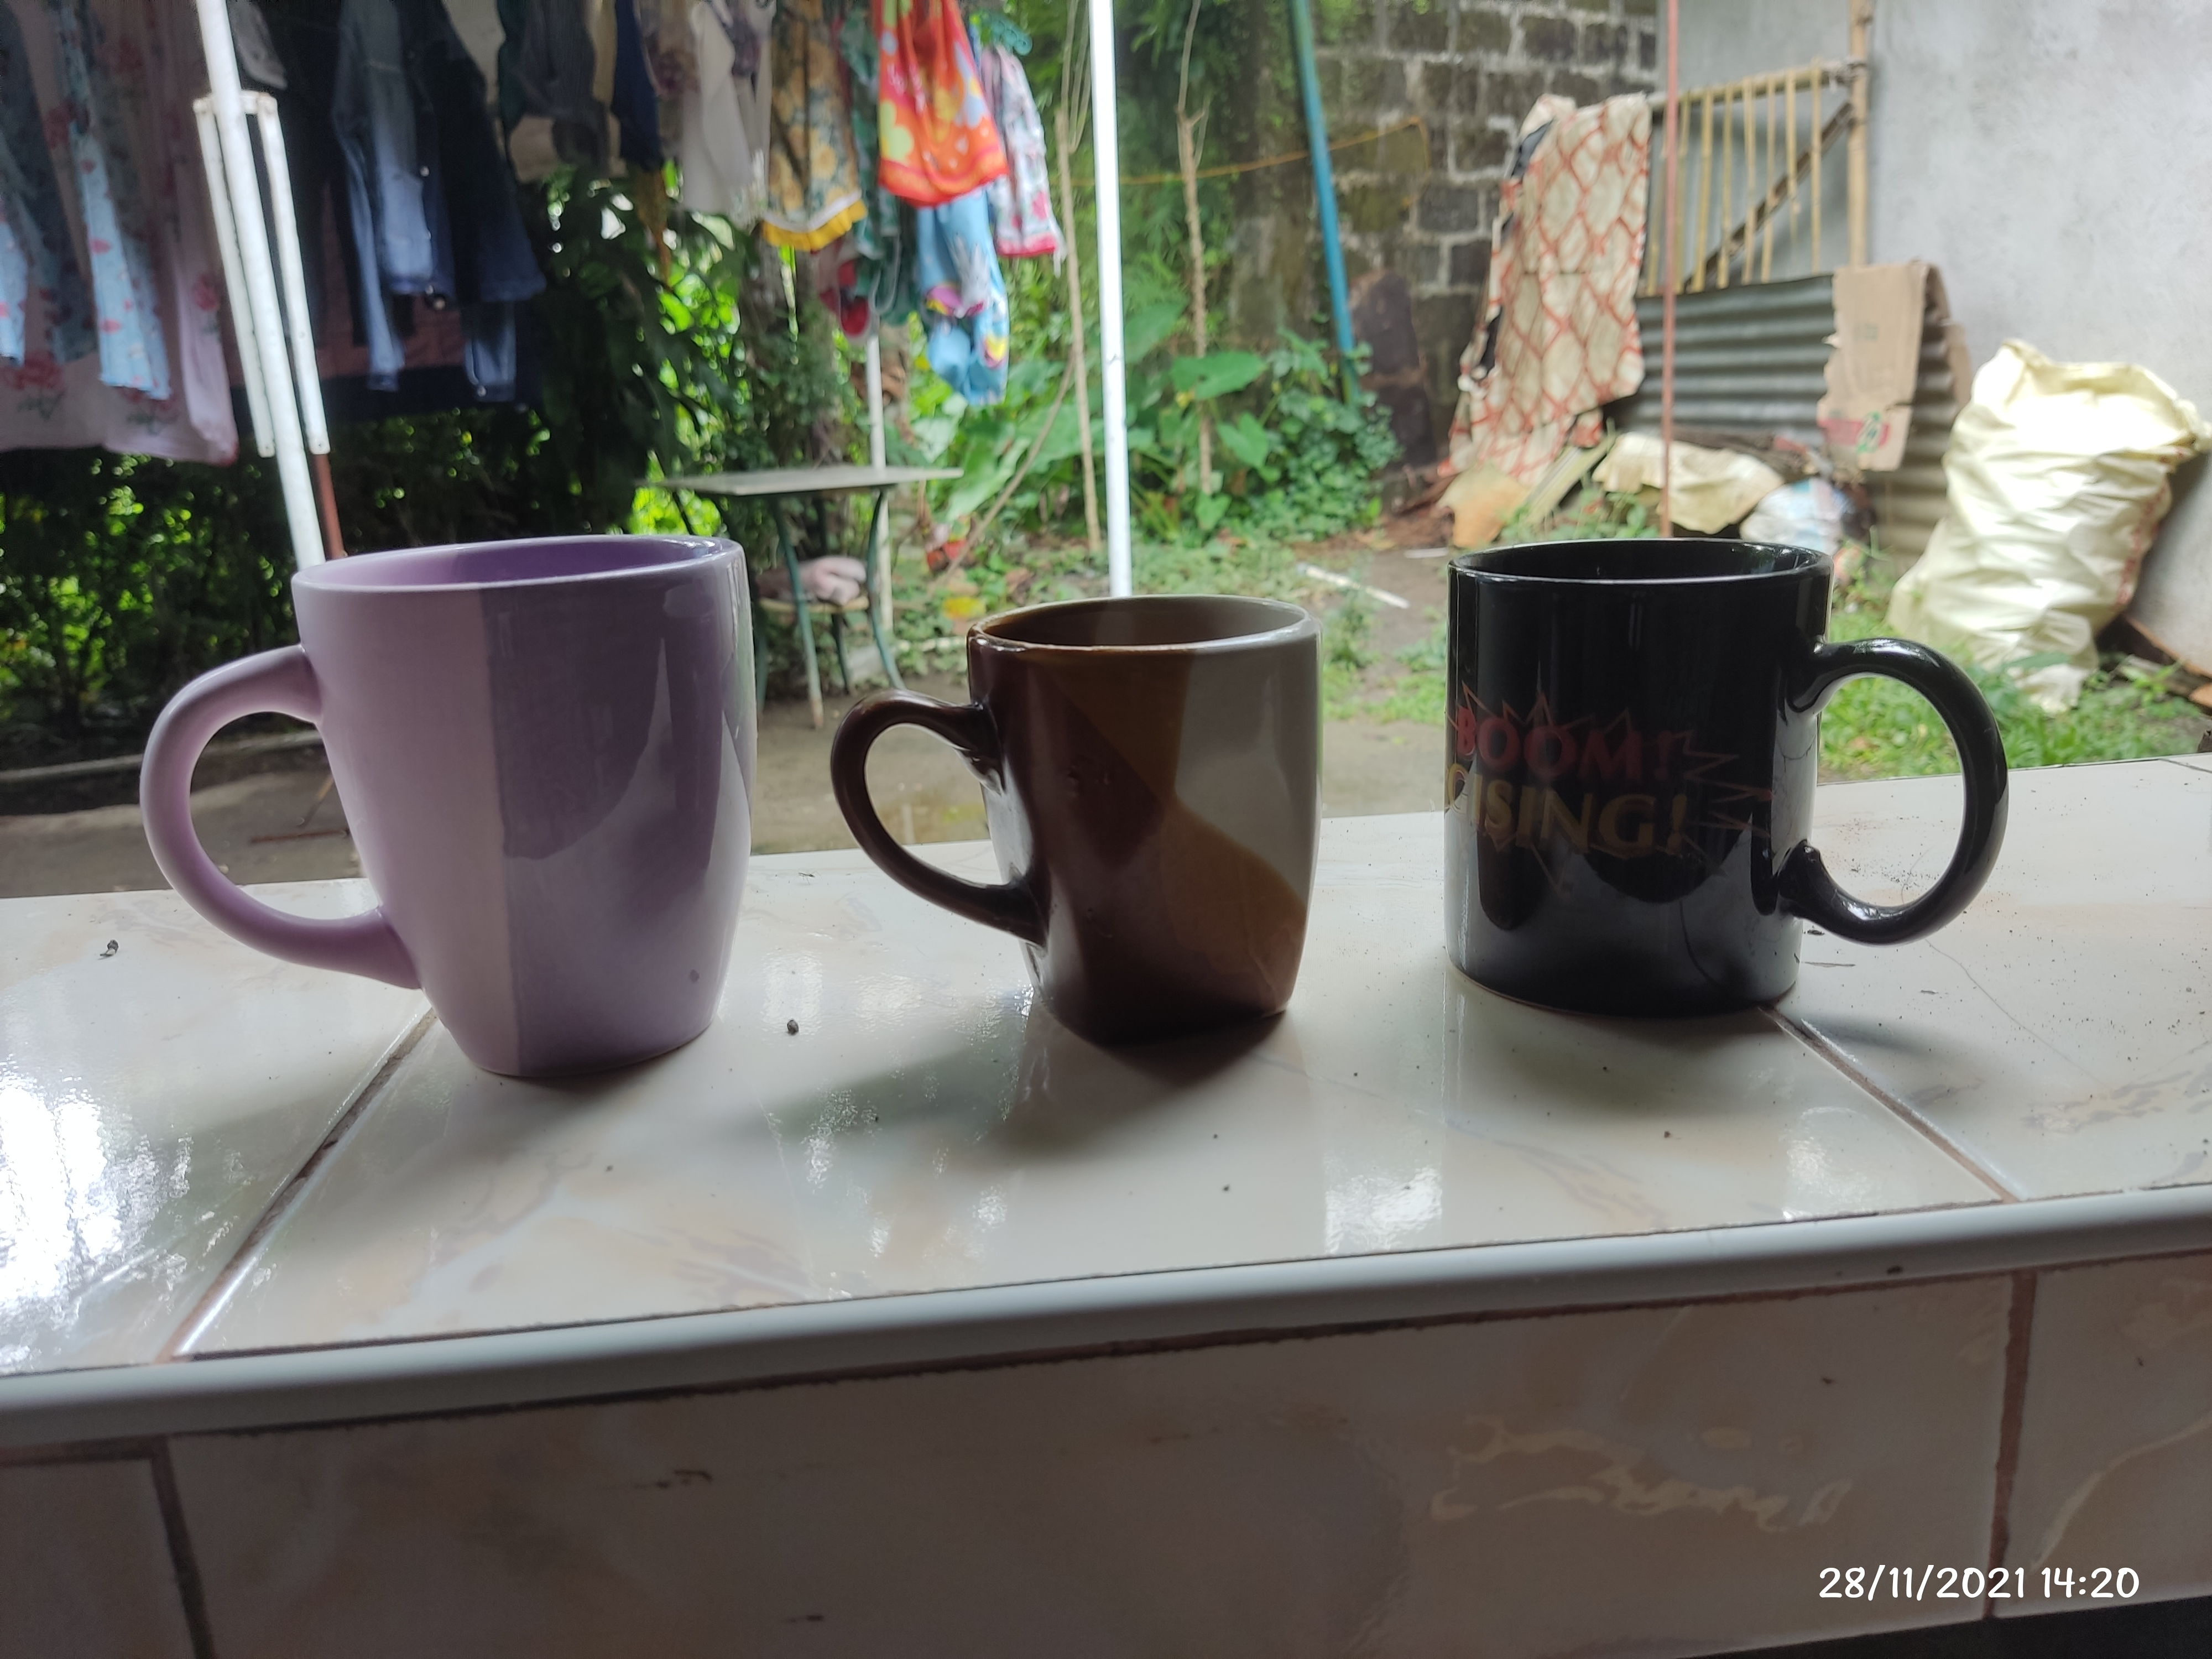mug: (152, 532, 763, 1077), (1439, 545, 2012, 1021), (836, 598, 1325, 1040)
